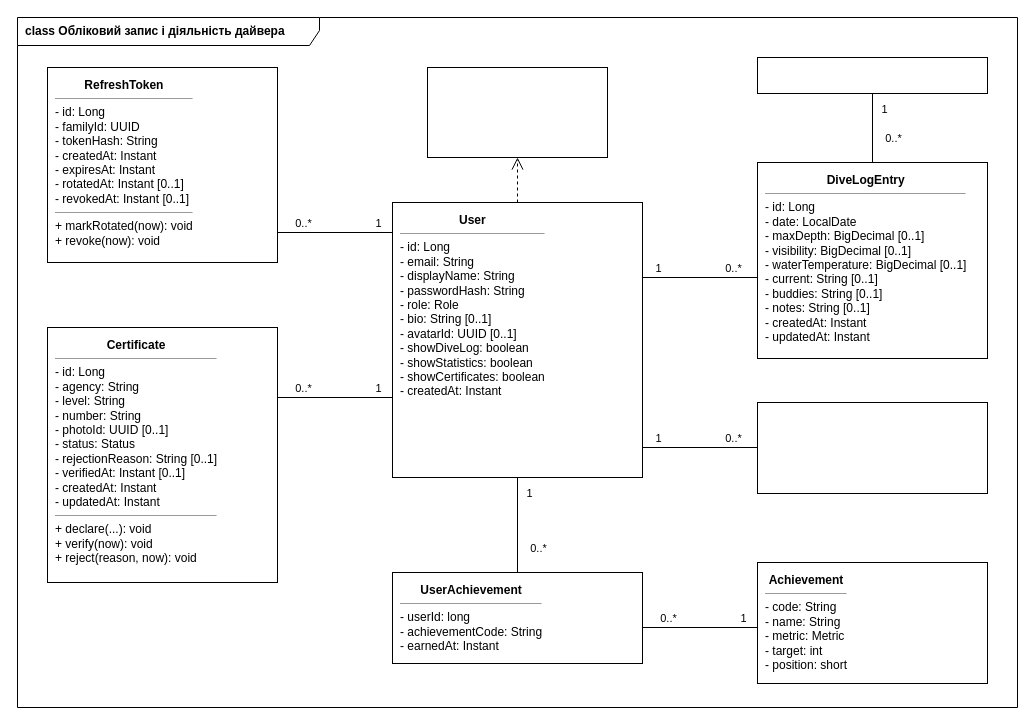
This 1035x725 diagram has some shape labels left out. The box of each missing label's shape, as (x1, y1, x2, y2) in pixels:
LockerItem - id: Long - name: String - createdAt: Instant: (756, 402, 988, 494)
Site: (756, 56, 988, 94)
«enumeration» Role USER ADMIN: (426, 66, 608, 158)
